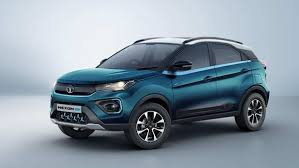Tata Nexon: (48, 33, 270, 150)
